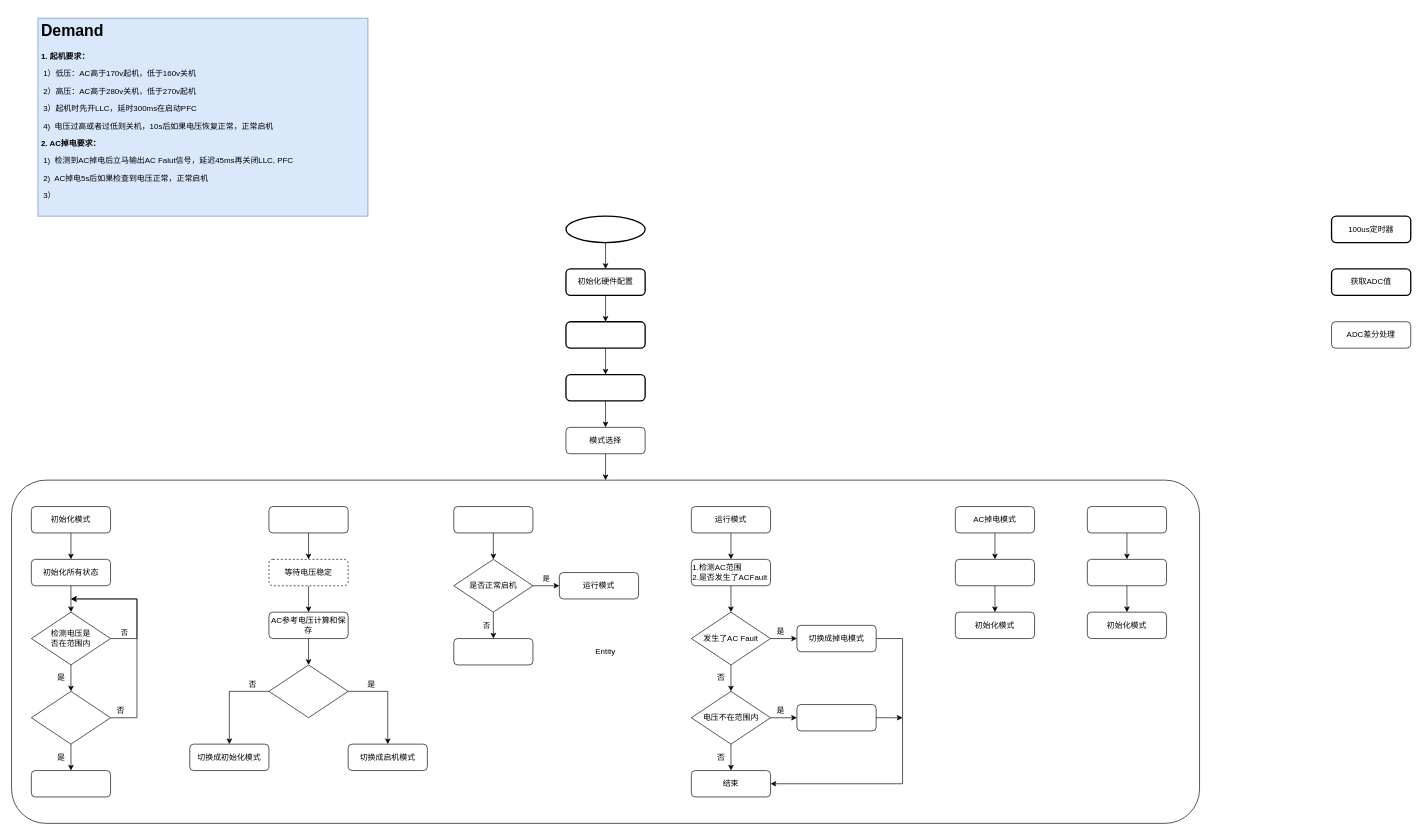
The diagram is 1423 pixels wide and 835 high, and some of its shapes have lost their labels. Here are the shapes that lost their labels. From the top down, the centre of each, then its label:
the point at 605,229: Start
the point at 605,334: 初始化软件控制参数
the point at 605,387: 任务周期运行
the point at 308,519: 电压保存模式
the point at 493,519: 启机模式
the point at 1127,519: 关机模式
the point at 995,572: 延迟5s
the point at 1127,572: 延长10s
the point at 493,651: 掉电模式
the point at 308,691: 保存完毕
the point at 71,717: 电压是否稳定
the point at 836,717: 切换成关机模式
the point at 71,783: 切换成电压保存模式
